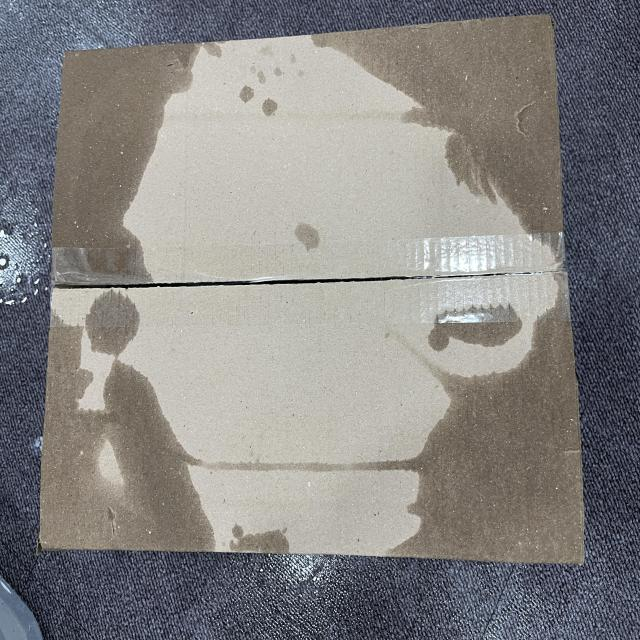wet: (71, 374, 329, 610), (55, 78, 252, 367), (428, 78, 596, 343), (422, 356, 579, 598)
